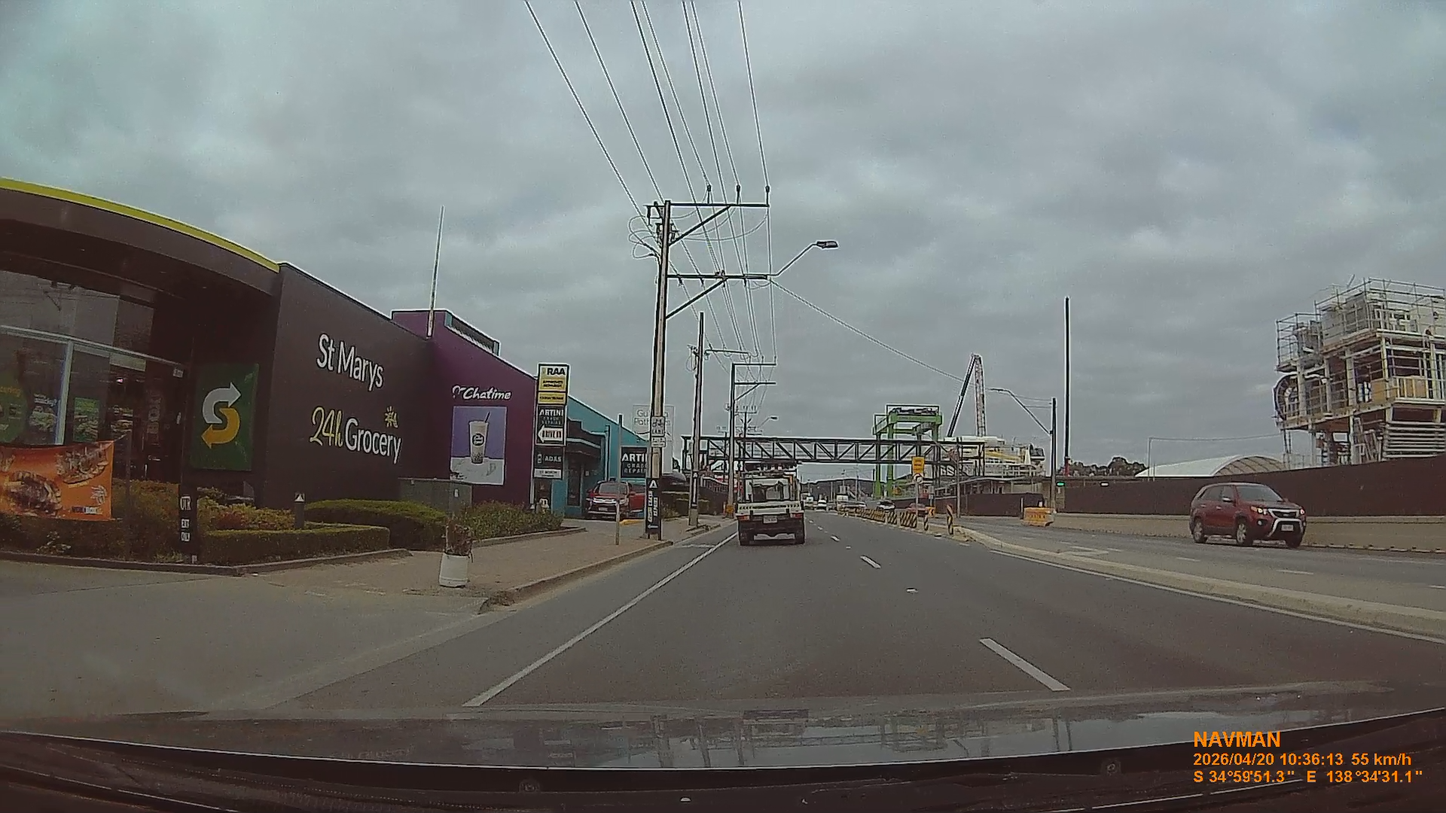fences: (1057, 456, 1445, 517)
road barriers: (838, 501, 956, 534), (1023, 507, 1054, 526)
